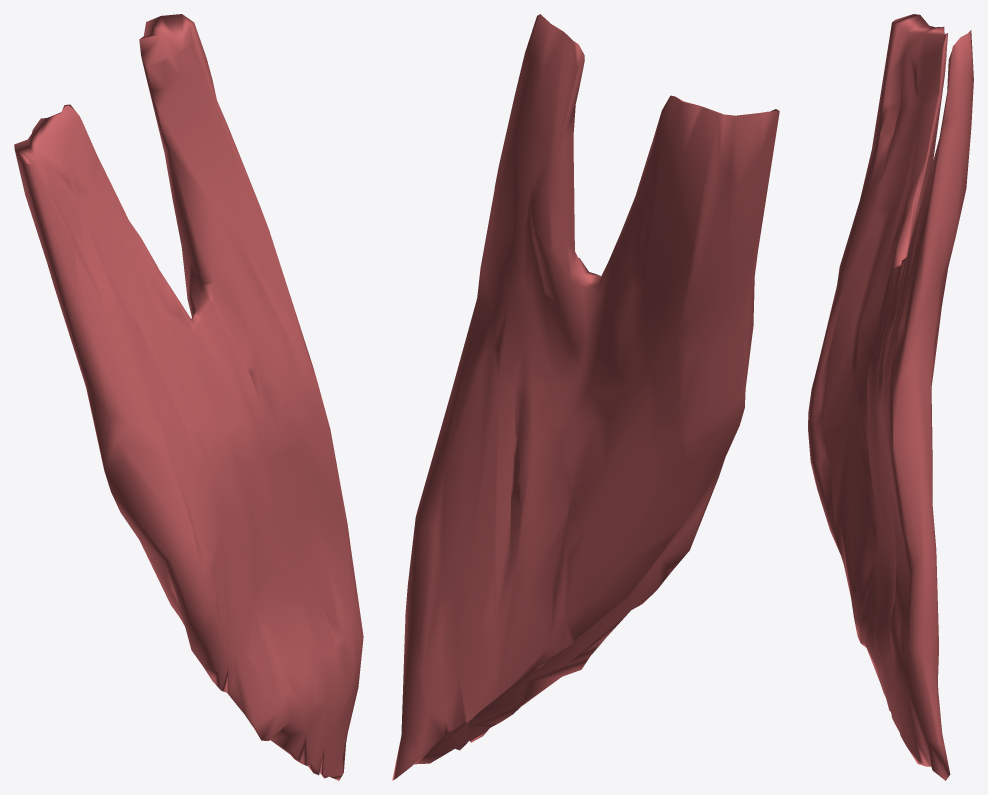
The picture shows the model from 3 angles, left to right: view 1: azimuth 30°, elevation 25°; view 2: azimuth 150°, elevation 25°; view 3: azimuth 270°, elevation 25°; orthographic projection. The views are drawn at different scales.
Visible parts, largest first — view 1: 左侧足底方肌; view 2: 左侧足底方肌; view 3: 左侧足底方肌.
Part boxes in pixels (left/top/right/bottom): 左侧足底方肌: left=14, top=14, right=363, bottom=780; 左侧足底方肌: left=392, top=14, right=779, bottom=780; 左侧足底方肌: left=808, top=14, right=973, bottom=780.
Bounding box in the file's own units: 0.0525 × 0.1132 × 0.0251.
